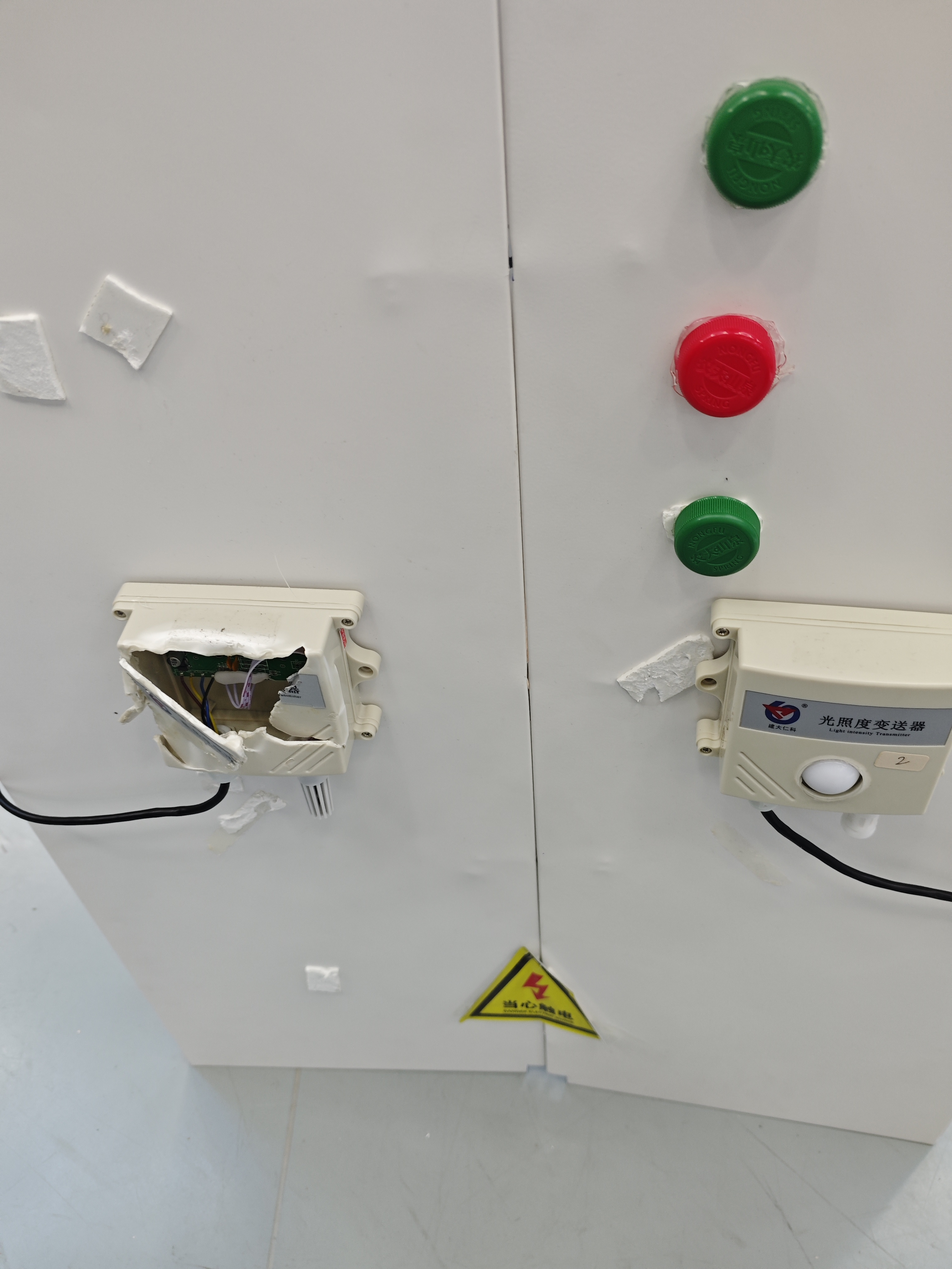red_warning: (638, 283, 806, 460)
sensor_damage: (78, 545, 422, 855)
